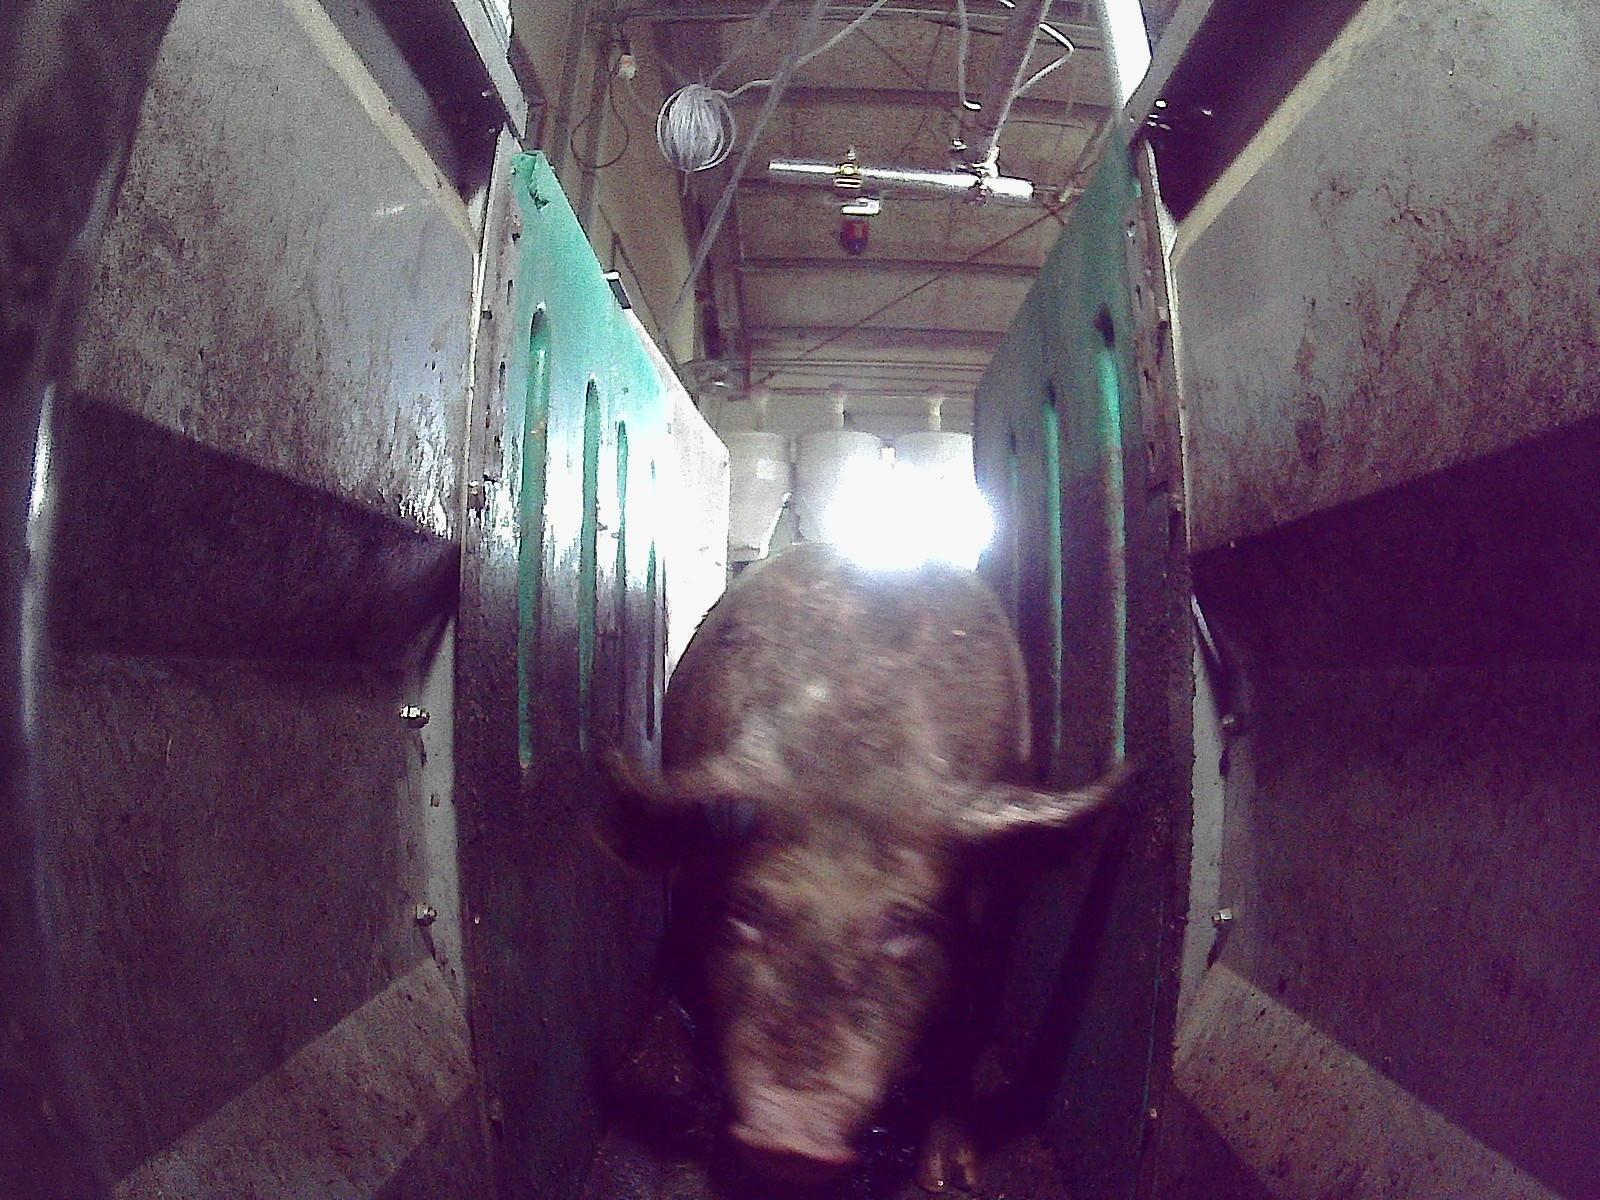Face: (695, 785, 962, 1183)
